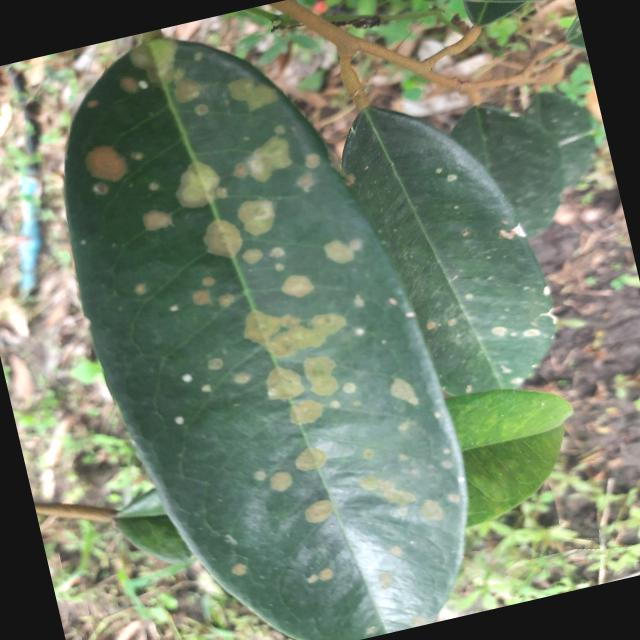Algal Leaf Spot: (17, 0, 507, 639)
